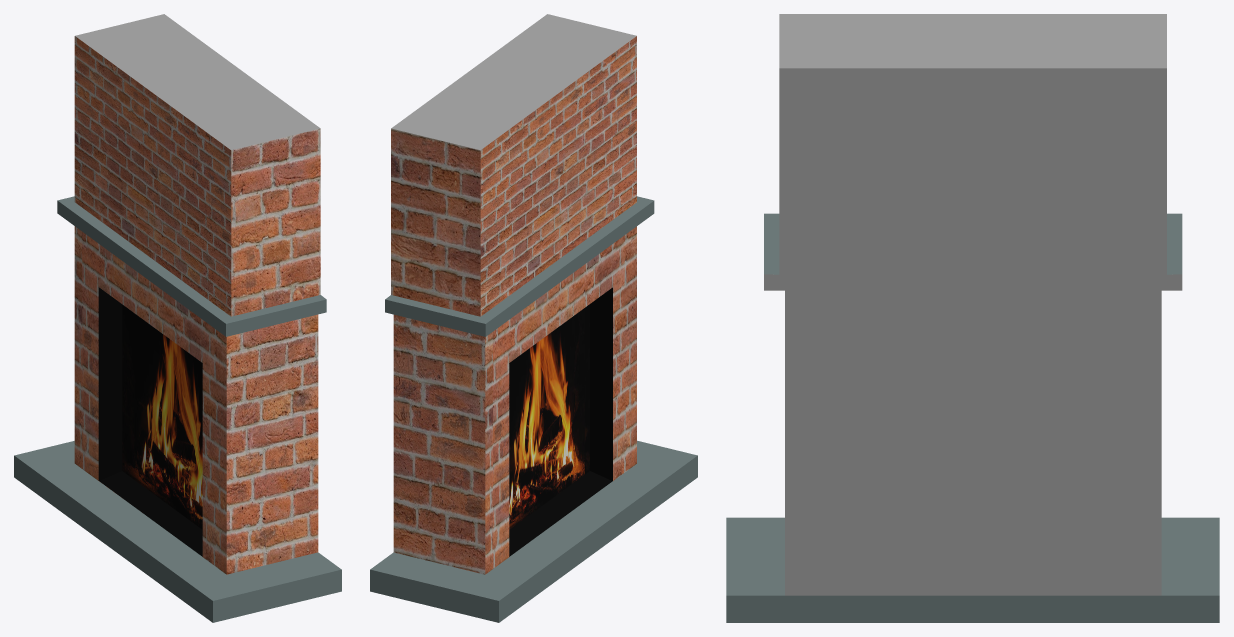
File: Chimenea5.fbx
3 renders of one model, left to right at view 1: azimuth 30°, elevation 25°; view 2: azimuth 150°, elevation 25°; view 3: azimuth 270°, elevation 25°, orthographic. The views are drawn at different scales.
Parts seen in each view (by area): view 1: polySurface62; view 2: polySurface62; view 3: polySurface62.
Boxes of the visible parts, x1,y1,x2,y2 form: polySurface62: (14,14,341,622); polySurface62: (370,14,697,622); polySurface62: (726,14,1219,622).
Size of the model in its own units: 3.65 by 12.08 by 9.73.
5 materials, 2 textured.
